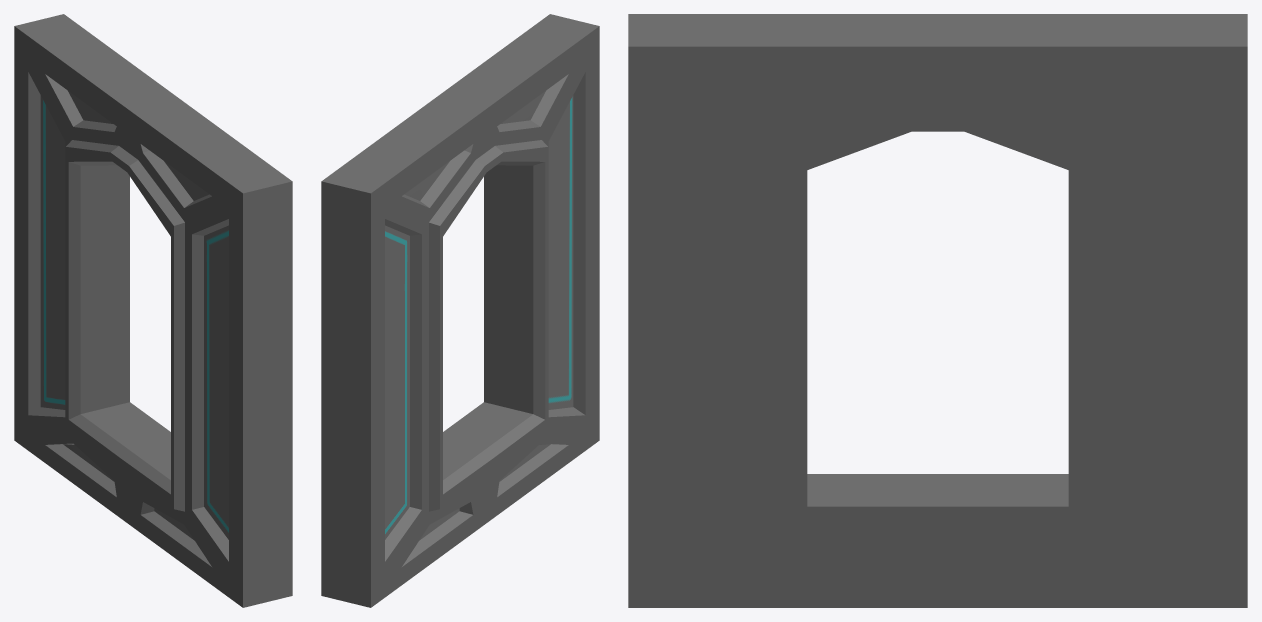
Rendered from SM_B3_Wall_SM_B3_W_B.fbx.
3 renders of one model, left to right at view 1: azimuth 30°, elevation 25°; view 2: azimuth 150°, elevation 25°; view 3: azimuth 270°, elevation 25°, orthographic. The views are drawn at different scales.
Visible parts, largest first — view 1: SM_B3_Wall_SM_B3_W_B; view 2: SM_B3_Wall_SM_B3_W_B; view 3: SM_B3_Wall_SM_B3_W_B.
Boxes of the visible parts, x1=… form: SM_B3_Wall_SM_B3_W_B: x1=14, y1=14, x2=292, y2=607; SM_B3_Wall_SM_B3_W_B: x1=321, y1=14, x2=599, y2=607; SM_B3_Wall_SM_B3_W_B: x1=628, y1=14, x2=1247, y2=607.
Bounding box in the file's own units: 59.91 × 406 × 406.
1 material, 1 textured.
